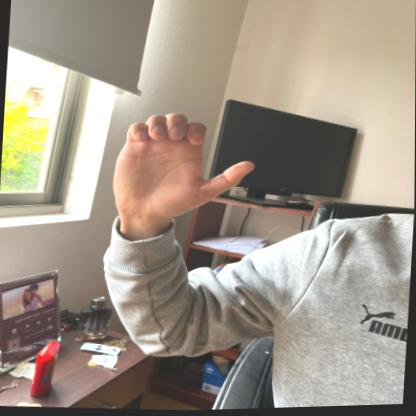E: (99, 105, 260, 235)
